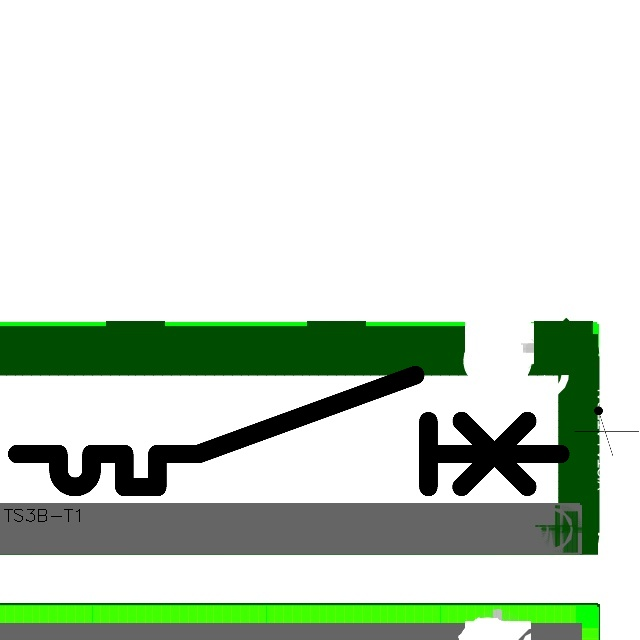interruptor_termomagnetico: (3, 361, 574, 501)
